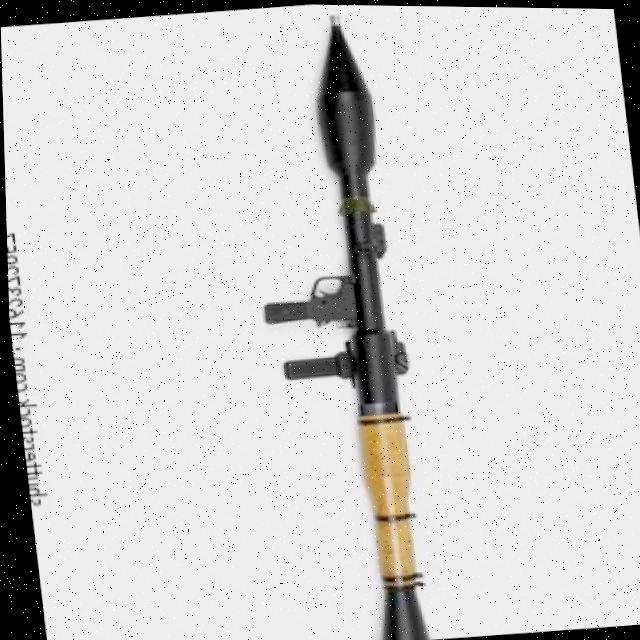grenade: (299, 7, 383, 211)
